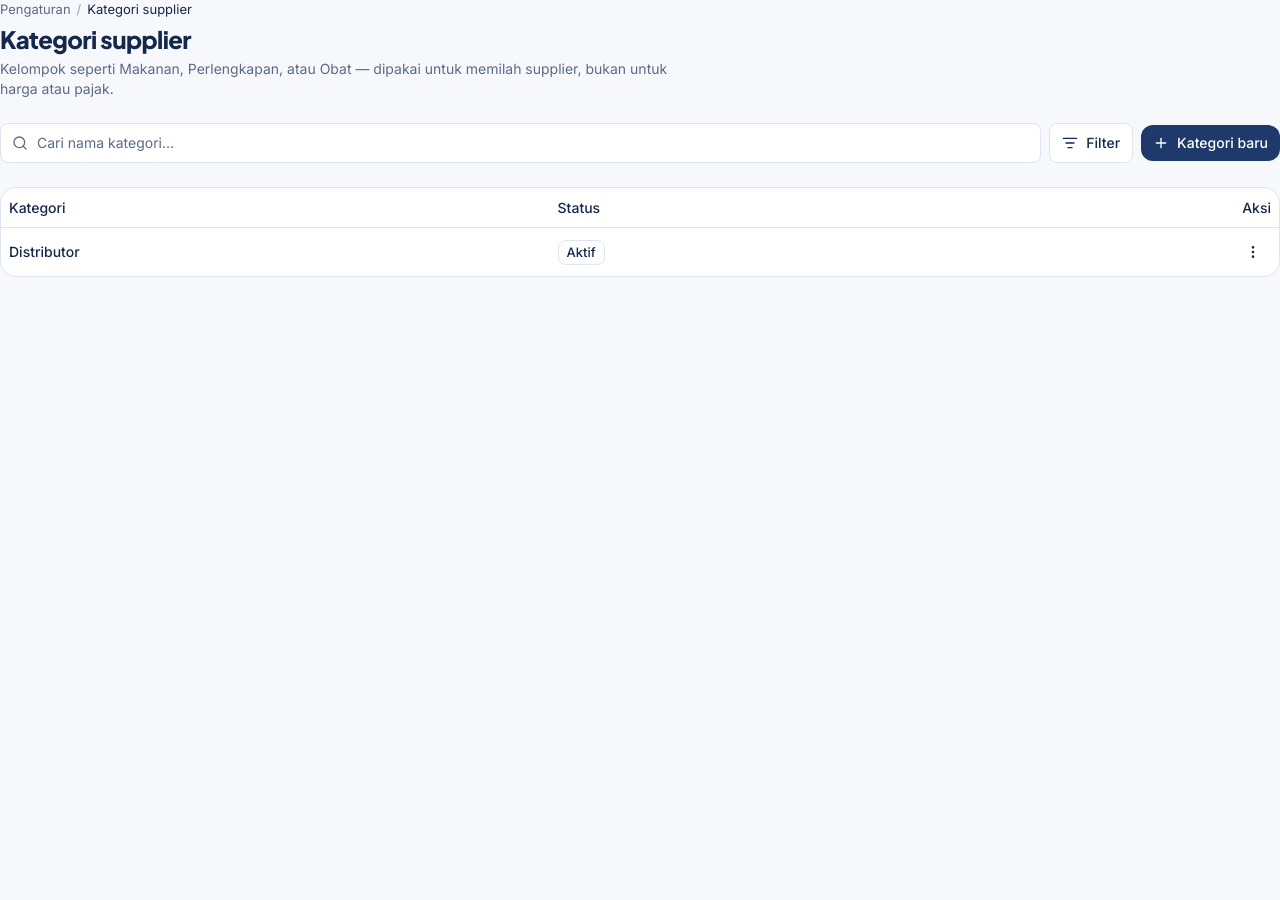
Test: SupplierCategoriesScreen › shows the server's refusal verbatim rather than a generic failure
Expected: the text "Distributor" is shown, [9,243,80,260]
Click the button named "Aksi untuk Distributor".
click(1253, 252)  # box [1235,236,1271,268]
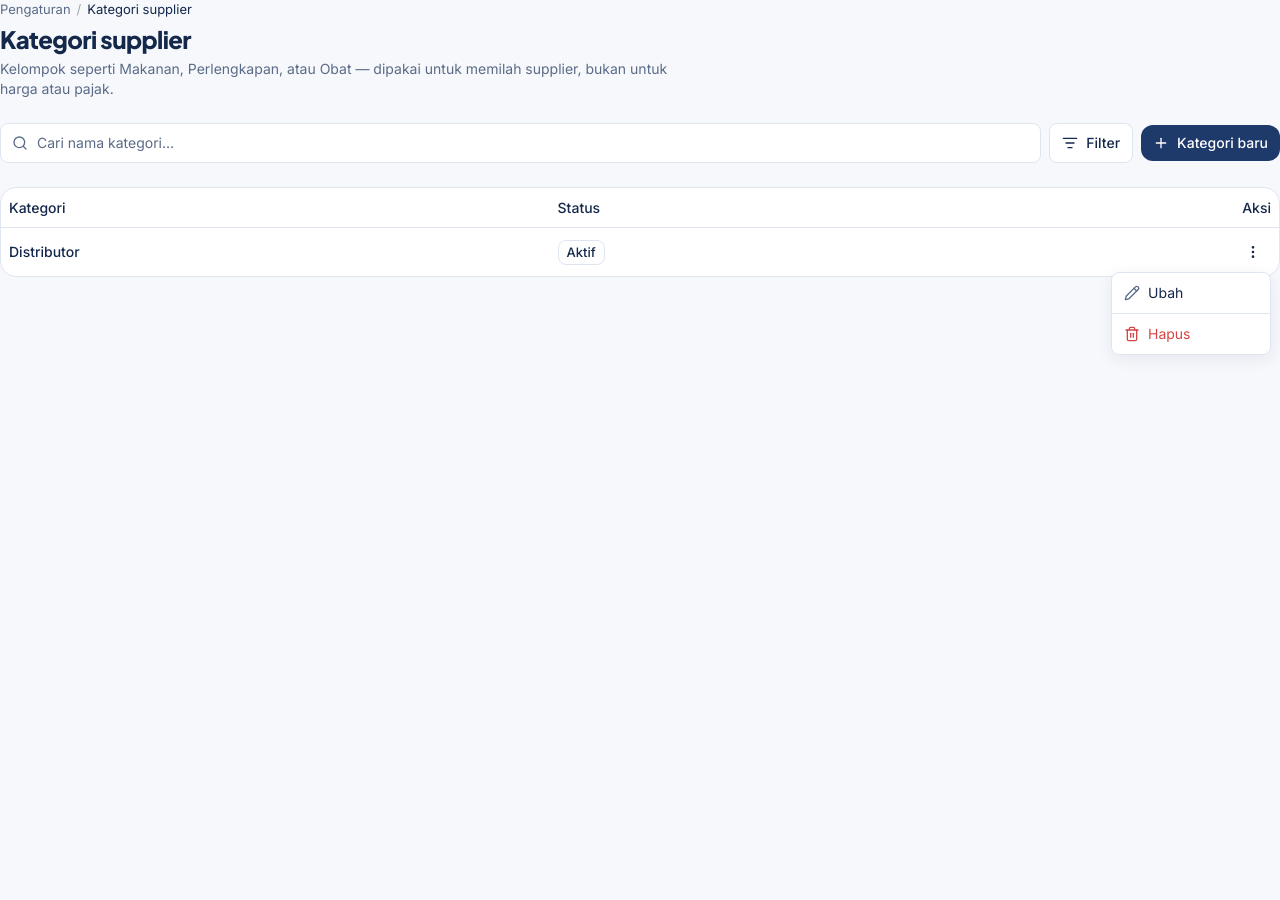
Click the menu item "Hapus".
click(1157, 334)  # box [1124,325,1190,342]
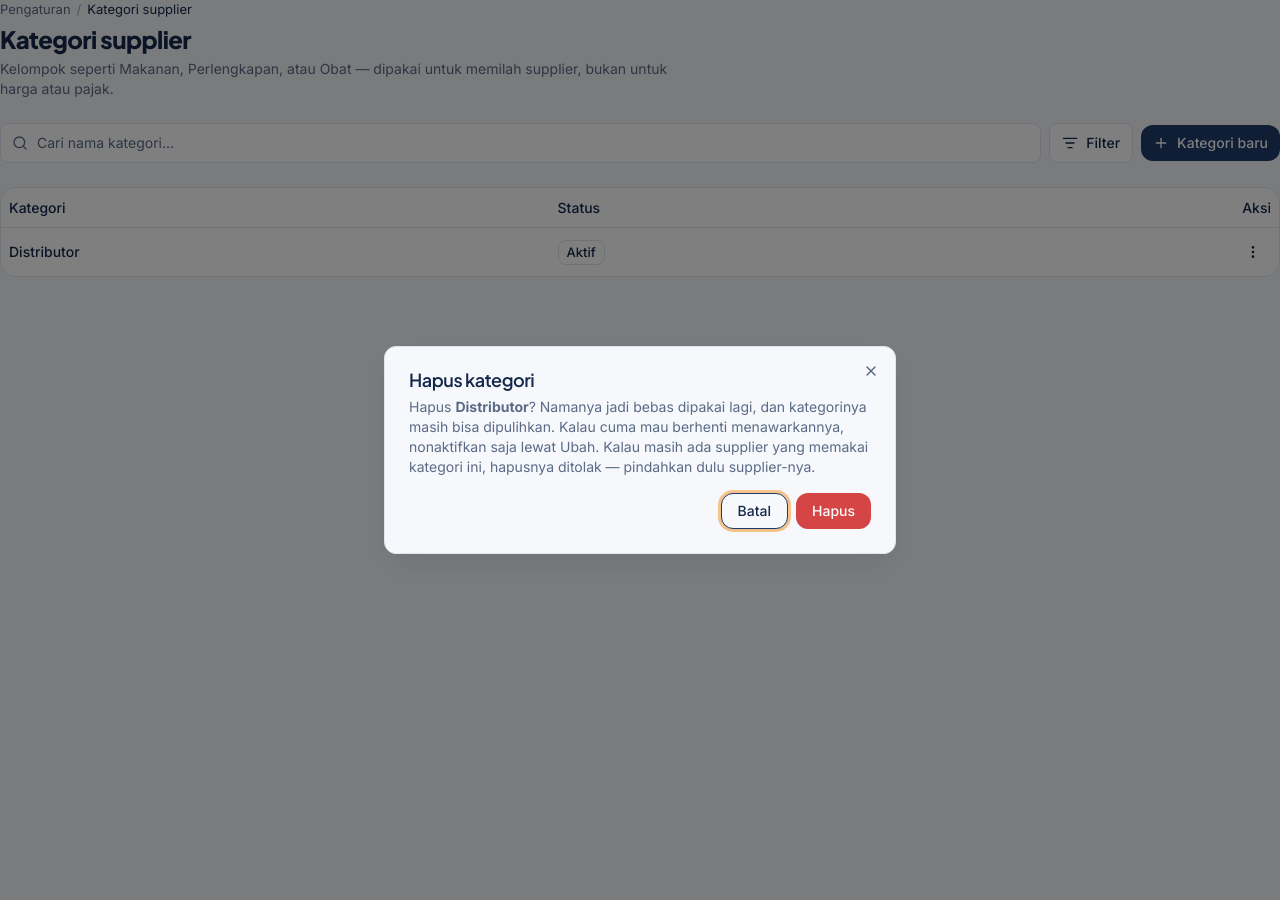
Click the button "Hapus".
click(834, 511)  # box [796,493,871,529]
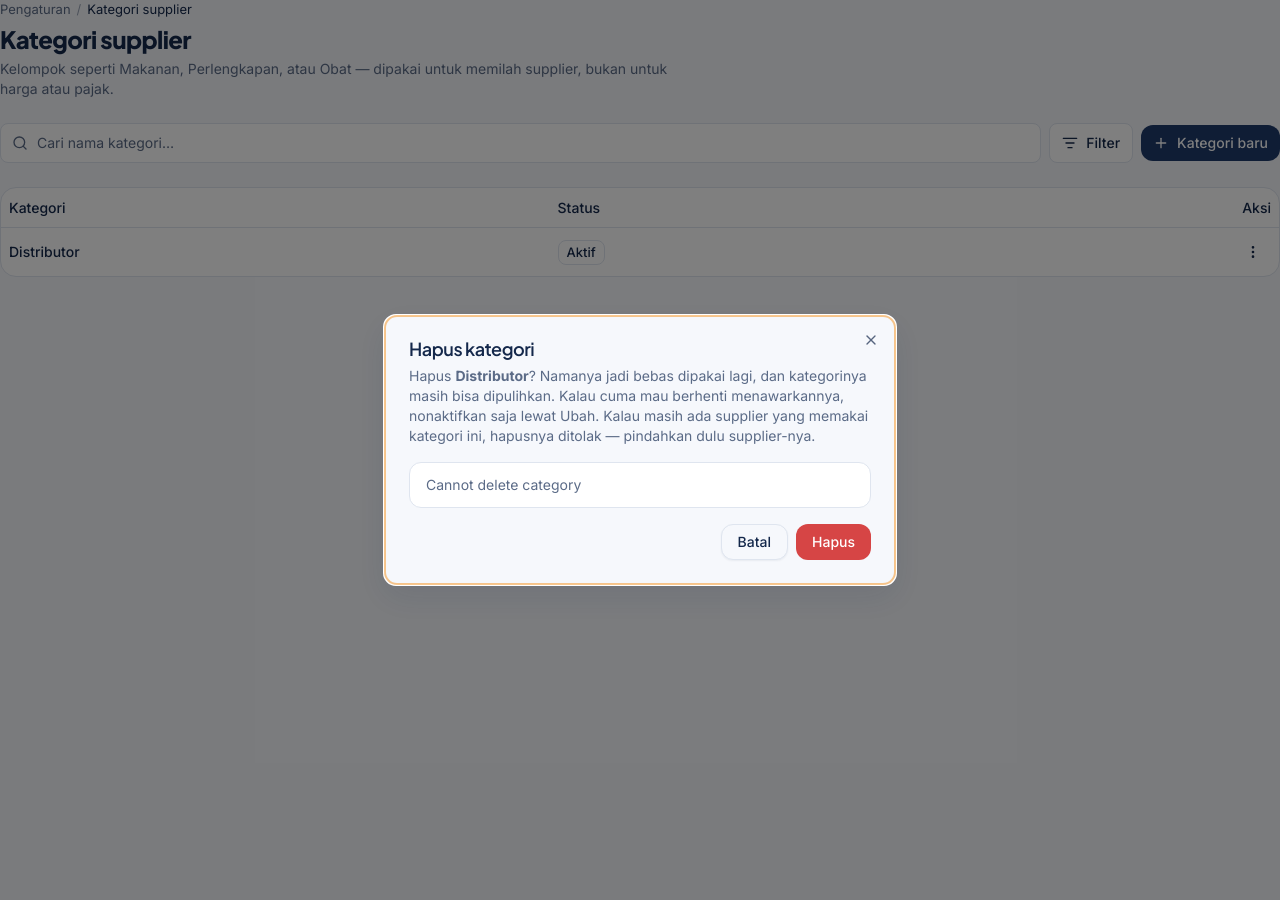
Expected: the text "Cannot delete category" is shown, [426,476,581,493]
